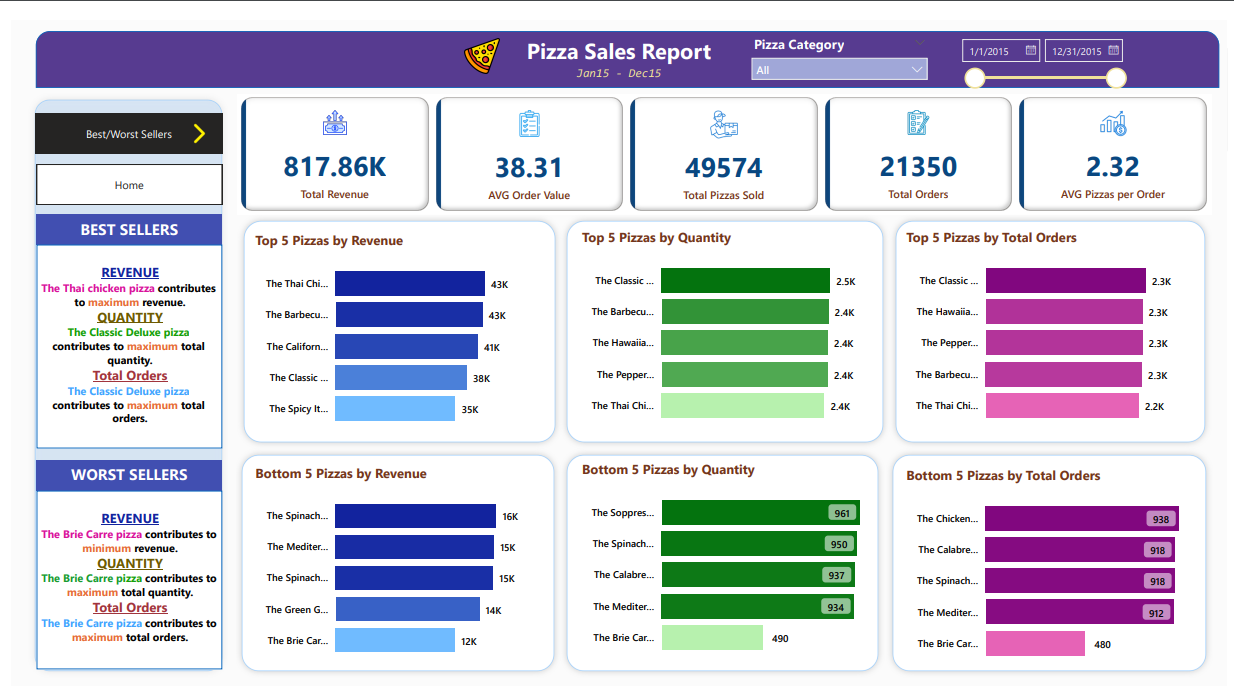

The dashboard page shown, as its layout file describes it:
{"tool":"powerbi","page":{"name":"Best/Worst Sellers","canvas":[1500,820],"ordinal":1},"visuals":[{"type":"cardVisual","fields":{"Data":["pizza_sales (2).Total Revenue","pizza_sales (2).AVG Order Value","pizza_sales (2).Total Pizzas Sold","pizza_sales (2).Total Orders","pizza_sales (2).AVG Pizzas per Order"]},"box":[278.6,90,1202.9,148.6],"z":0},{"type":"shape","box":[30,12.9,1460,70],"z":1000},{"type":"textbox","box":[595.7,12.9,307.1,45.7],"z":2000},{"type":"textbox","box":[595.7,48.6,307.1,34.3],"z":3000},{"type":"image","box":[550,16.7,60,53.3],"z":4000},{"type":"shape","box":[278.6,238.6,400,288.6],"z":5000},{"type":"shape","box":[21.4,90,245.7,718.6],"z":6000},{"type":"textbox","box":[31.4,238.6,228.6,37.1],"z":7000},{"type":"textbox","box":[31.4,275.7,228.6,251.4],"z":8000},{"type":"textbox","box":[31.4,541.4,228.6,37.1],"z":9000},{"type":"textbox","box":[31.4,578.6,228.6,220],"z":10000},{"type":"slicer","fields":{"Values":["pizza_sales.pizza_category"]},"box":[902.9,12.9,237.1,70],"z":11000},{"type":"slicer","fields":{"Values":["pizza_sales.order_date"]},"box":[1160,12.9,224.3,77.1],"z":12000},{"type":"shape","box":[677.1,238.6,405.7,288.6],"z":13000},{"type":"shape","box":[1082.9,238.6,397.1,288.6],"z":14000},{"type":"shape","box":[277.1,527.1,400,281.4],"z":15000},{"type":"shape","box":[677.1,527.1,400,281.4],"z":16000},{"type":"shape","box":[1080,527.1,401.4,281.4],"z":17000},{"type":"barChart","title":"Top 5 Pizzas by Revenue","fields":{"Category":["pizza_sales.pizza_name"],"Y":["pizza_sales.Total Revenue"]},"box":[295.7,260,362.9,254.3],"z":18000},{"type":"barChart","title":"Bottom 5 Pizzas by Revenue","fields":{"Category":["pizza_sales.pizza_name"],"Y":["pizza_sales.Total Revenue"]},"box":[295.7,545.7,362.9,252.9],"z":19000},{"type":"barChart","title":"Top 5 Pizzas by Quantity","fields":{"Category":["pizza_sales.pizza_name"],"Y":["pizza_sales.Total Pizzas Sold"]},"box":[698.6,255.7,362.9,254.3],"z":20000},{"type":"barChart","title":"Bottom 5 Pizzas by Quantity","fields":{"Category":["pizza_sales.pizza_name"],"Y":["pizza_sales.Total Pizzas Sold"]},"box":[698.6,541.4,362.9,254.3],"z":21000},{"type":"barChart","title":"Top 5 Pizzas by Total Orders","fields":{"Category":["pizza_sales.pizza_name"],"Y":["pizza_sales.Total Orders"]},"box":[1098.6,255.7,362.9,254.3],"z":22000},{"type":"barChart","title":"Bottom 5 Pizzas by Total Orders","fields":{"Category":["pizza_sales.pizza_name"],"Y":["pizza_sales.Total Orders"]},"box":[1098.6,548.6,362.9,254.3],"z":23000},{"type":"pageNavigator","box":[30,114.3,230,50],"z":23001},{"type":"pageNavigator","box":[31.4,177.1,228.6,50],"z":23002},{"type":"image","box":[204.3,114.3,55.7,50],"z":23003}]}

Visuals, with their boxes on the page's 1500x820 design canvas (x1, y1, x2, y2). These are canvas units, not pixel positions in the 1234x697 screenshot, which may show the page scaled, cropped or inside an application window:
cardVisual - pizza_sales (2).Total Revenue x pizza_sales (2).AVG Order Value: [left=279, top=90, right=1482, bottom=239]
shape: [left=30, top=13, right=1490, bottom=83]
textbox: [left=596, top=13, right=903, bottom=59]
textbox: [left=596, top=49, right=903, bottom=83]
image: [left=550, top=17, right=610, bottom=70]
shape: [left=279, top=239, right=679, bottom=527]
shape: [left=21, top=90, right=267, bottom=809]
textbox: [left=31, top=239, right=260, bottom=276]
textbox: [left=31, top=276, right=260, bottom=527]
textbox: [left=31, top=541, right=260, bottom=578]
textbox: [left=31, top=579, right=260, bottom=799]
slicer - pizza_sales.pizza_category: [left=903, top=13, right=1140, bottom=83]
slicer - pizza_sales.order_date: [left=1160, top=13, right=1384, bottom=90]
shape: [left=677, top=239, right=1083, bottom=527]
shape: [left=1083, top=239, right=1480, bottom=527]
shape: [left=277, top=527, right=677, bottom=808]
shape: [left=677, top=527, right=1077, bottom=808]
shape: [left=1080, top=527, right=1481, bottom=808]
"Top 5 Pizzas by Revenue" barChart: [left=296, top=260, right=659, bottom=514]
"Bottom 5 Pizzas by Revenue" barChart: [left=296, top=546, right=659, bottom=799]
"Top 5 Pizzas by Quantity" barChart: [left=699, top=256, right=1062, bottom=510]
"Bottom 5 Pizzas by Quantity" barChart: [left=699, top=541, right=1062, bottom=796]
"Top 5 Pizzas by Total Orders" barChart: [left=1099, top=256, right=1462, bottom=510]
"Bottom 5 Pizzas by Total Orders" barChart: [left=1099, top=549, right=1462, bottom=803]
pageNavigator: [left=30, top=114, right=260, bottom=164]
pageNavigator: [left=31, top=177, right=260, bottom=227]
image: [left=204, top=114, right=260, bottom=164]
